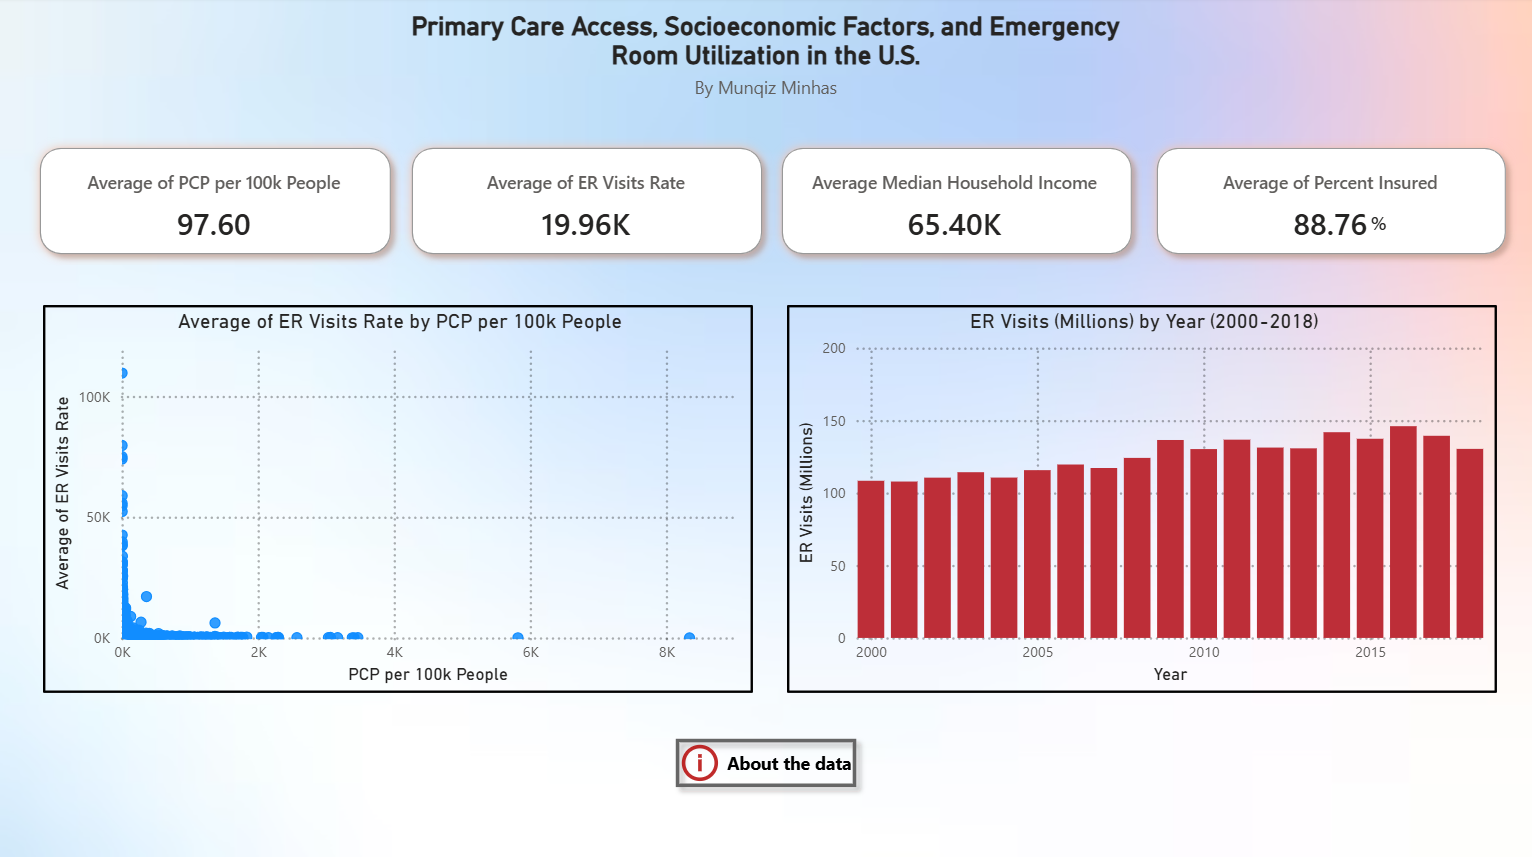

The dashboard page shown, as its layout file describes it:
{"tool":"powerbi","page":{"name":"Overview & Key Insights","canvas":[1280,720],"ordinal":0},"visuals":[{"type":"textbox","title":"Primary Care Access, Socioeconomic Factors, and Emergency Room Utilization in the U.S.","box":[325,11.7,629.3,105],"z":0},{"type":"shape","box":[24.2,116.7,311.3,106.8],"z":0,"group":"g3"},{"type":"shape","box":[335.2,116.7,310.6,106.8],"z":0,"group":"g4"},{"type":"shape","box":[644.3,116.7,310.4,106.8],"z":0,"group":"g2"},{"type":"group","id":"g1","title":"Group 1","box":[957.1,116.7,309.6,106.8],"z":0,"group":"g5"},{"type":"shape","box":[957.1,116.7,309.6,106.8],"z":0,"group":"g1"},{"type":"group","id":"g2","title":"Group 1","box":[644.3,116.7,310.4,106.8],"z":1000,"group":"g6"},{"type":"cardVisual","fields":{"Data":["Avg(merged_regression_data.Median_Household_Income)"]},"box":[660.7,126.4,273.1,89.8],"z":1000,"group":"g2"},{"type":"cardVisual","fields":{"Data":["Avg(merged_regression_data.PCP_per_100k)"]},"box":[47.9,127.1,262.6,90.1],"z":1000,"group":"g3"},{"type":"cardVisual","fields":{"Data":["Avg(merged_regression_data.ER_Visits_Rate)"]},"box":[358.9,127.1,262.1,90.1],"z":1000,"group":"g4"},{"type":"cardVisual","fields":{"Data":["Avg(merged_regression_data.Percent_Insured)"]},"box":[980.7,127.1,261.2,90.1],"z":1000,"group":"g1"},{"type":"textbox","box":[1138.8,172.4,24.7,30.7],"z":1000,"group":"g5"},{"type":"scatterChart","fields":{"X":["merged_regression_data.PCP_per_100k"],"Y":["Avg(merged_regression_data.ER_Visits_Rate)"]},"box":[35.9,257.7,592.5,324.1],"z":1000},{"type":"group","id":"g3","title":"Group 1","box":[24.2,116.7,311,106.8],"z":2000,"group":"g6"},{"type":"actionButton","title":"About the data","box":[555.7,610.5,168.8,58.4],"z":2000},{"type":"columnChart","title":"ER Visits (Millions) by Year (2000-2018)","fields":{"Category":["us_healthcare_visits_cleaned.Year"],"Y":["us_healthcare_visits_cleaned.ER Visits (Millions)"]},"box":[657.2,257.7,592.5,324.1],"z":2500},{"type":"group","id":"g4","title":"Group 1","box":[335.2,116.7,311,106.8],"z":3000,"group":"g6"},{"type":"group","id":"g5","title":"Group 2","box":[957.1,116.7,310.1,106.8],"z":4000,"group":"g6"},{"type":"group","id":"g6","title":"Group 3","box":[24.2,116.7,1243.4,106.8],"z":5000}]}

Visuals, with their boxes in screenshot pixels (x1, y1, x2, y2), scaled from the page's 1280x720 canvas onto the 1532x857 screenshot:
"Primary Care Access, Socioeconomic Factors, and Emergency Room Utilization in the U.S." textbox: locate(389, 14, 1142, 139)
shape: locate(29, 139, 402, 266)
shape: locate(401, 139, 773, 266)
shape: locate(771, 139, 1143, 266)
"Group 1" group: locate(1146, 139, 1516, 266)
shape: locate(1146, 139, 1516, 266)
"Group 1" group: locate(771, 139, 1143, 266)
cardVisual - Avg(merged_regression_data.Median_Household_Income): locate(791, 150, 1118, 257)
cardVisual - Avg(merged_regression_data.PCP_per_100k): locate(57, 151, 372, 259)
cardVisual - Avg(merged_regression_data.ER_Visits_Rate): locate(430, 151, 743, 259)
cardVisual - Avg(merged_regression_data.Percent_Insured): locate(1174, 151, 1486, 259)
textbox: locate(1363, 205, 1393, 242)
scatterChart - merged_regression_data.PCP_per_100k x Avg(merged_regression_data.ER_Visits_Rate): locate(43, 307, 752, 693)
"Group 1" group: locate(29, 139, 401, 266)
"About the data" actionButton: locate(665, 727, 867, 796)
"ER Visits (Millions) by Year (2000-2018)" columnChart: locate(787, 307, 1496, 693)
"Group 1" group: locate(401, 139, 773, 266)
"Group 2" group: locate(1146, 139, 1517, 266)
"Group 3" group: locate(29, 139, 1517, 266)
